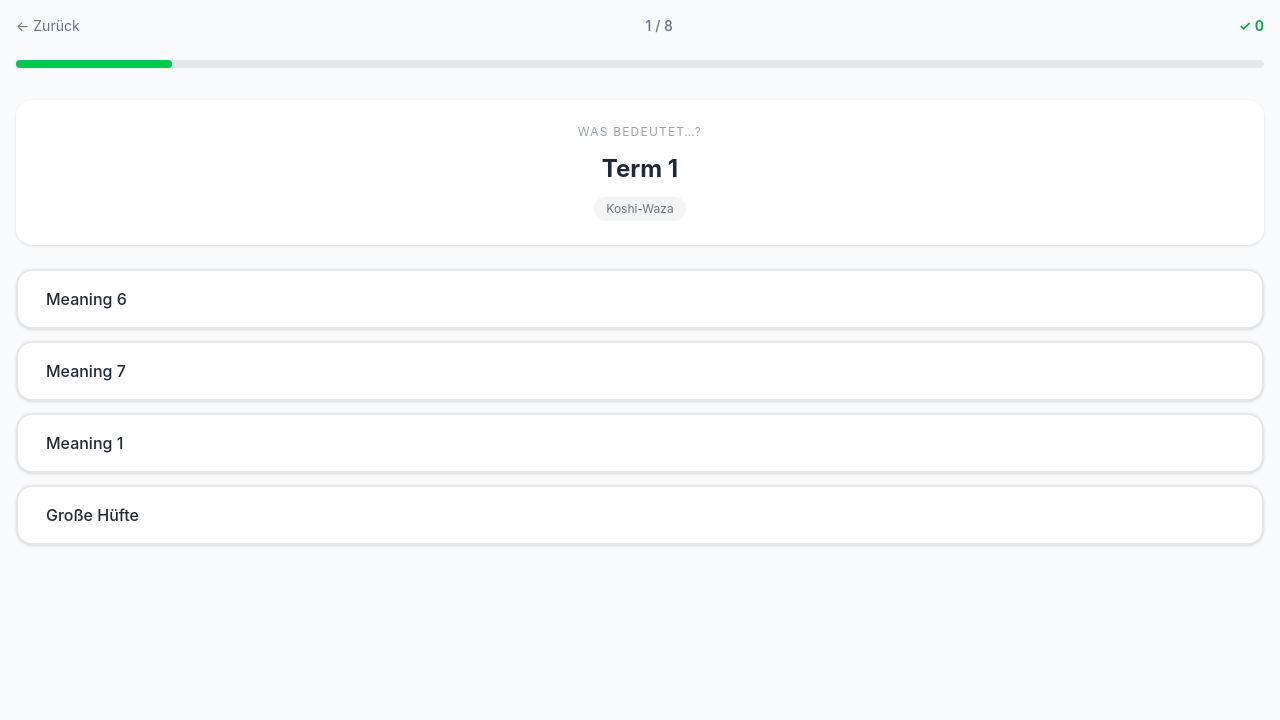
Scenario: Quiz – answering › increments score when correct answer is selected
Click the button with test id "choice-correct".
click(85, 443)  # box [16,413,1264,473]
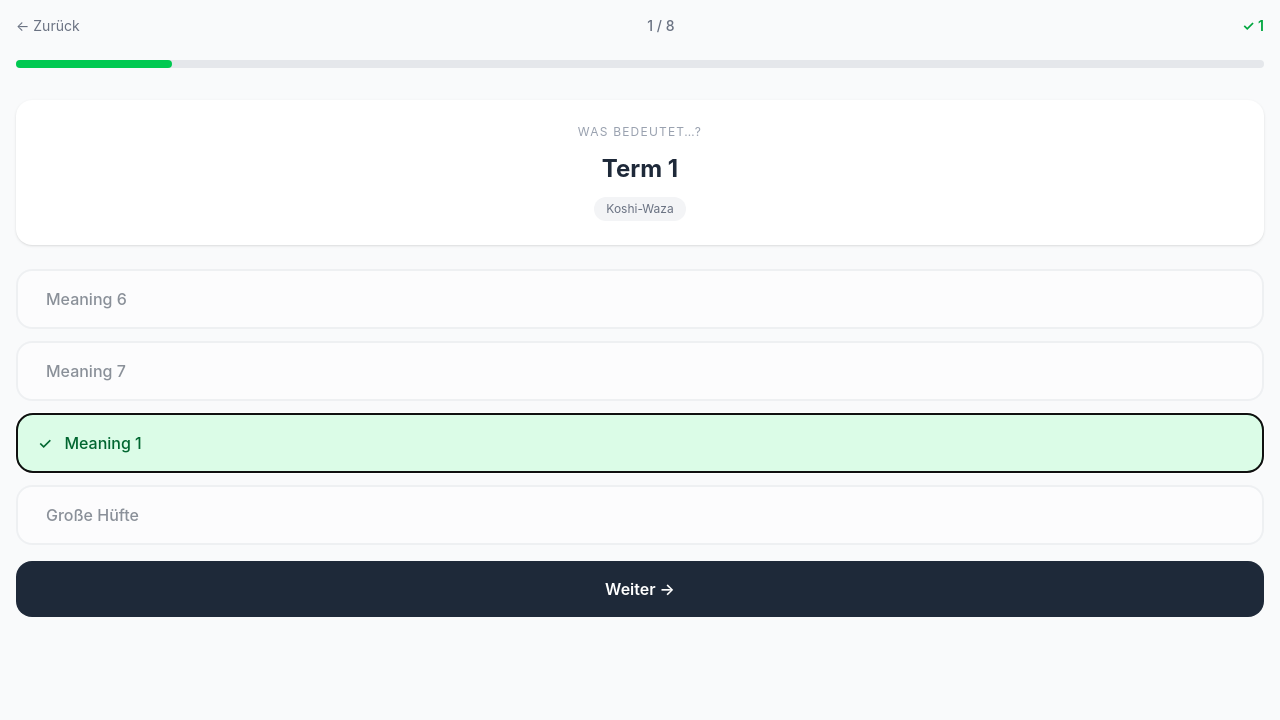
Check: the text with test id "score" shows "1", box [1258,17,1264,34]
